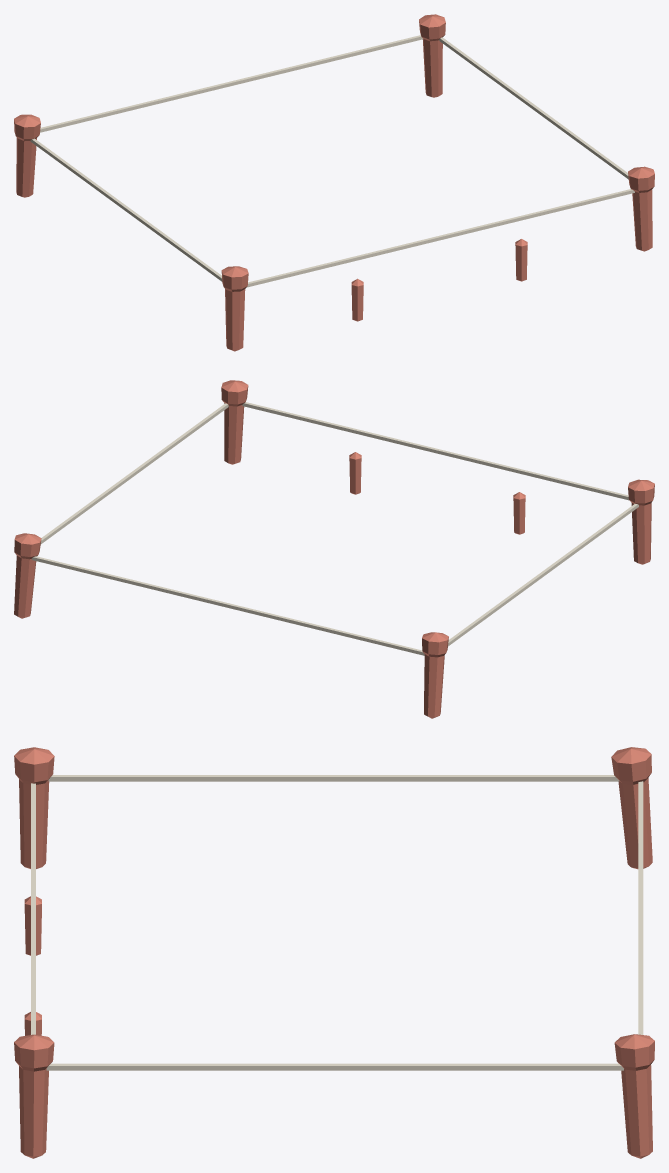
File: planned.glb
3 renders of one model, top to bottom at view 1: azimuth 30°, elevation 25°; view 2: azimuth 150°, elevation 25°; view 3: azimuth 270°, elevation 25°, orthographic. The views are drawn at different scales.
Parts seen in each view (by area): view 1: stakes, string_lines; view 2: stakes, string_lines; view 3: stakes, string_lines.
Boxes of the visible parts, <box> form: stakes: <box>14,14,654,351</box>; string_lines: <box>30,35,634,287</box>; stakes: <box>14,380,654,718</box>; string_lines: <box>31,402,638,655</box>; stakes: <box>14,747,654,1158</box>; string_lines: <box>31,775,643,1070</box>.
Size of the model in its own units: 2.84 by 0.53 by 2.53.
